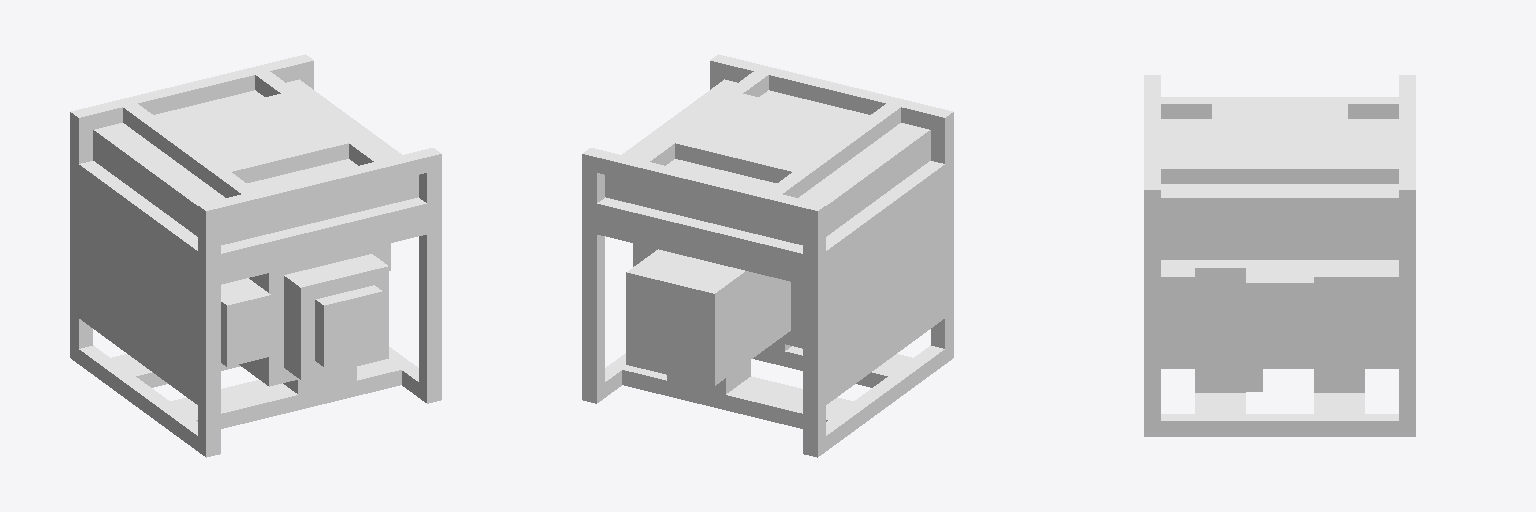
File: generator.obj
3 renders of one model, left to right at view 1: azimuth 30°, elevation 25°; view 2: azimuth 150°, elevation 25°; view 3: azimuth 270°, elevation 25°, orthographic.
Parts seen in each view (by area): view 1: Gas-Generator; view 2: Gas-Generator; view 3: Gas-Generator.
Boxes of the visible parts, box(x1,y1,x2,y2) form: Gas-Generator: box(70, 54, 441, 457); Gas-Generator: box(582, 54, 953, 457); Gas-Generator: box(1144, 75, 1415, 436).
Size of the model in its own units: 1 by 1 by 1.